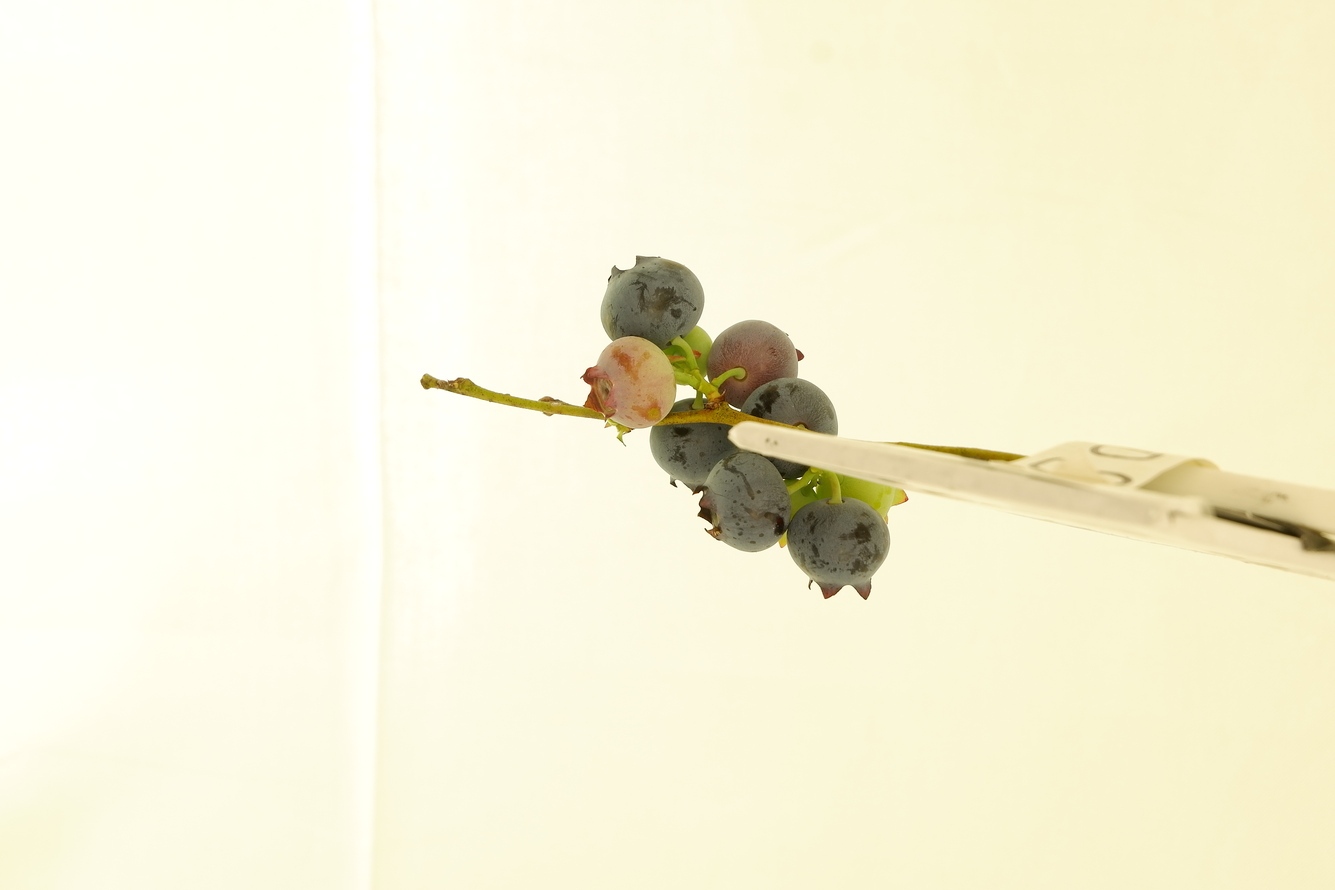Immature: (706, 320, 806, 409), (582, 337, 676, 428), (813, 470, 909, 527), (661, 326, 713, 386), (778, 477, 819, 548)
Mature: (786, 497, 892, 600), (692, 453, 792, 554), (739, 378, 838, 480), (600, 255, 704, 350), (648, 398, 739, 491)
